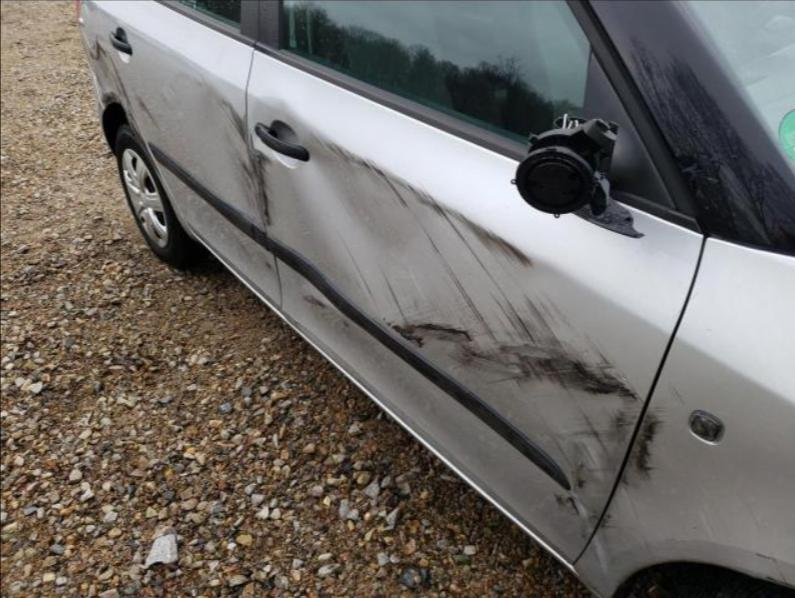Dent: (308, 143, 440, 258), (169, 74, 252, 207), (282, 204, 356, 308), (254, 98, 318, 142)
Missing part: (513, 116, 617, 218)
Paint chip: (314, 134, 538, 274), (394, 191, 494, 336), (450, 224, 516, 308), (87, 33, 132, 110), (551, 442, 593, 522), (620, 411, 662, 487), (622, 486, 657, 564), (339, 234, 377, 302), (246, 132, 273, 226), (236, 139, 263, 225), (604, 408, 638, 476), (567, 409, 605, 454), (215, 97, 246, 141), (134, 89, 159, 131), (578, 508, 598, 540), (557, 444, 579, 473), (762, 574, 794, 589), (696, 512, 711, 542), (303, 294, 328, 310), (600, 514, 616, 535), (752, 550, 774, 559), (343, 320, 353, 331), (267, 262, 273, 274)
Scratch: (381, 263, 633, 408), (421, 185, 535, 344), (417, 217, 499, 343), (619, 406, 668, 490), (575, 403, 617, 471), (337, 230, 373, 296), (523, 292, 564, 348), (366, 159, 408, 209), (489, 290, 526, 345), (411, 270, 445, 322), (594, 337, 629, 380), (544, 420, 573, 471), (549, 430, 575, 486), (749, 551, 789, 587), (473, 233, 509, 273), (484, 234, 521, 270), (607, 393, 644, 429), (489, 305, 518, 346), (381, 269, 404, 319), (83, 53, 103, 109), (216, 100, 243, 141), (542, 293, 572, 329), (572, 487, 594, 536), (739, 497, 765, 536), (132, 89, 158, 126), (583, 333, 612, 366), (581, 441, 604, 479), (406, 266, 430, 302), (568, 475, 592, 511), (532, 292, 557, 326), (356, 272, 377, 311), (502, 240, 530, 268), (316, 307, 344, 334), (699, 499, 717, 539), (418, 188, 442, 217), (696, 508, 714, 542), (122, 102, 142, 132), (236, 236, 257, 264), (594, 534, 608, 575), (331, 141, 352, 165), (770, 553, 786, 579), (97, 90, 120, 108), (324, 140, 344, 160), (312, 134, 331, 155), (670, 387, 686, 411), (670, 384, 686, 406), (586, 456, 604, 475), (343, 148, 362, 165), (565, 495, 581, 515), (485, 375, 519, 384), (589, 540, 601, 565), (550, 489, 563, 511), (412, 296, 423, 318), (621, 485, 631, 509), (485, 378, 511, 385), (567, 388, 576, 407), (456, 311, 468, 325), (83, 32, 91, 52), (512, 376, 522, 389), (361, 159, 371, 171), (336, 346, 360, 351), (675, 538, 690, 541), (692, 526, 698, 529)
